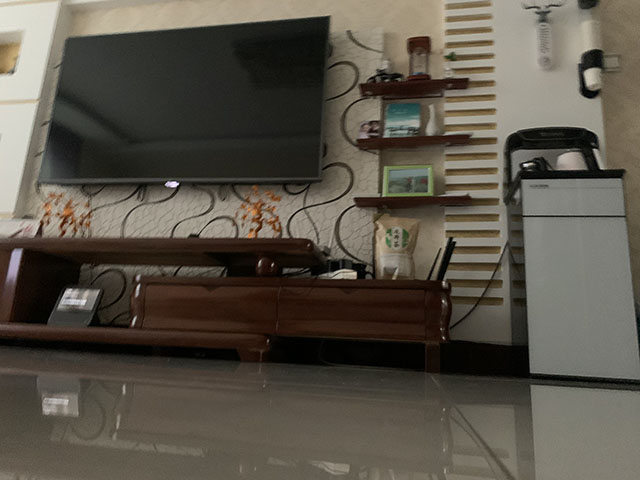cabinet: (1, 235, 455, 373), (501, 124, 640, 387)
